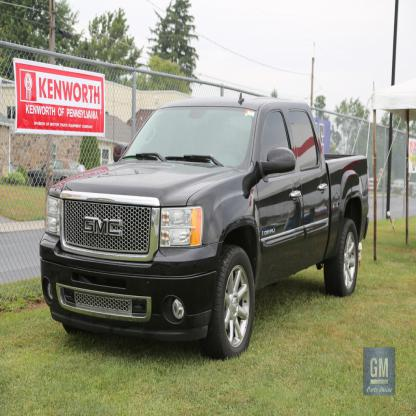Car: (27, 158, 86, 187)
Truck: (40, 92, 369, 360)
